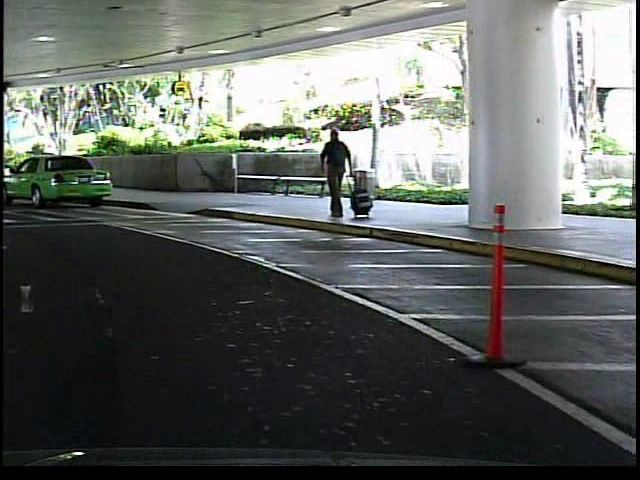person: (311, 123, 354, 227)
